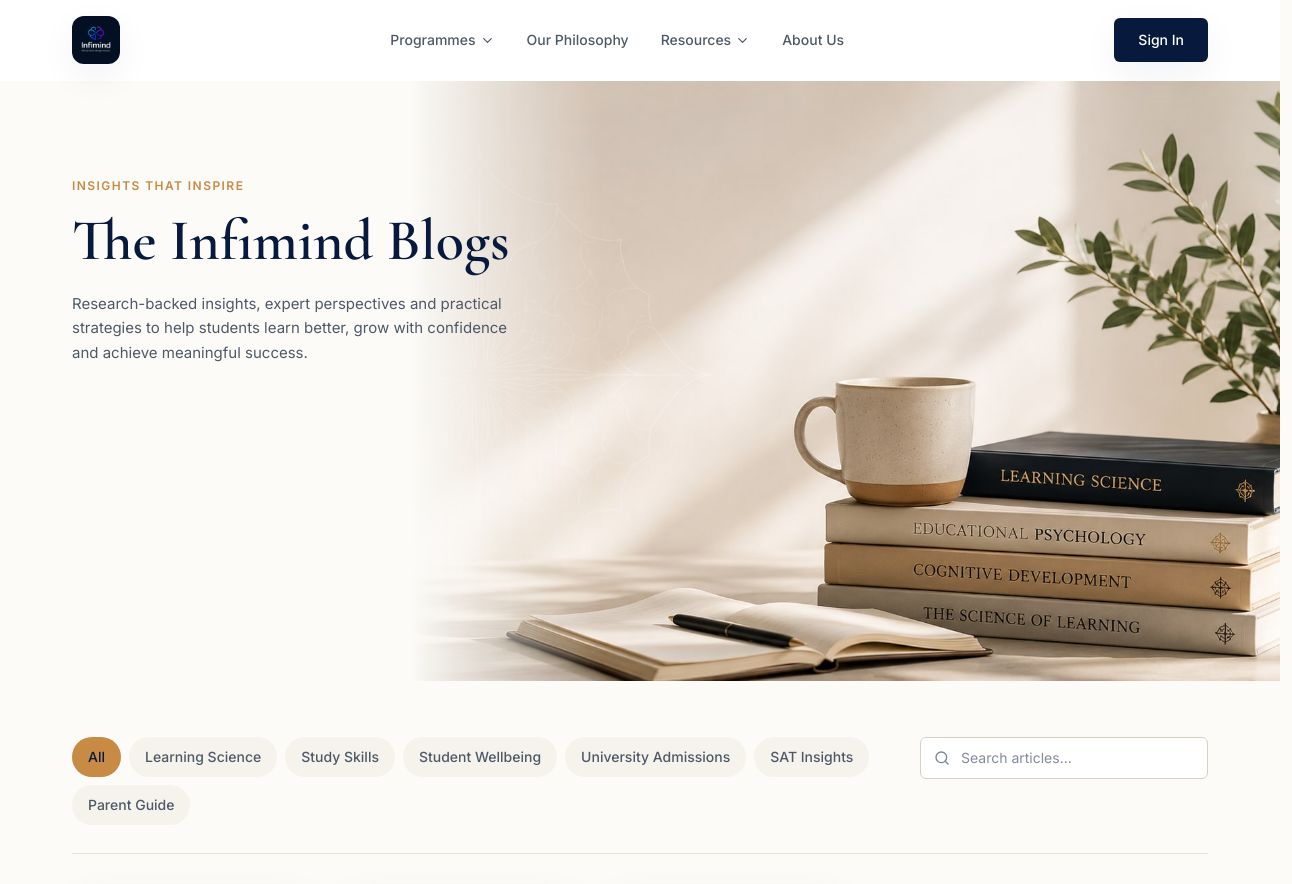
Test: Blog listing page › filters by category and reflects it in the URL, showing a no-results state for an empty match
Click the button "SAT Insights" at (812,757), box top-left (754, 737), bottom-right (869, 777)
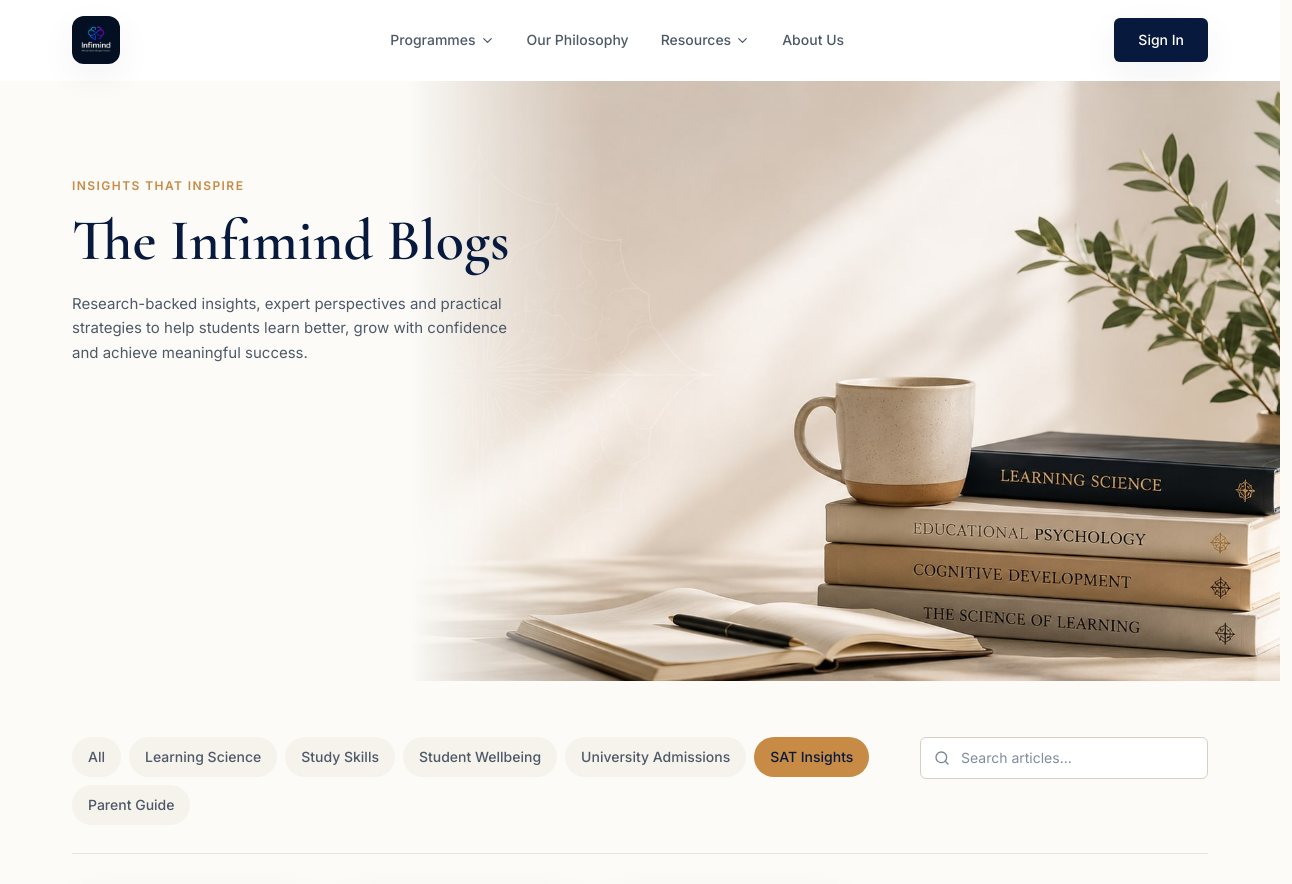
Parent Guide has no seeded or fixture articles, so it's a reliable empty match.
Click the button "Parent Guide" at (131,805), box top-left (72, 785), bottom-right (190, 825)
(page scrolled)
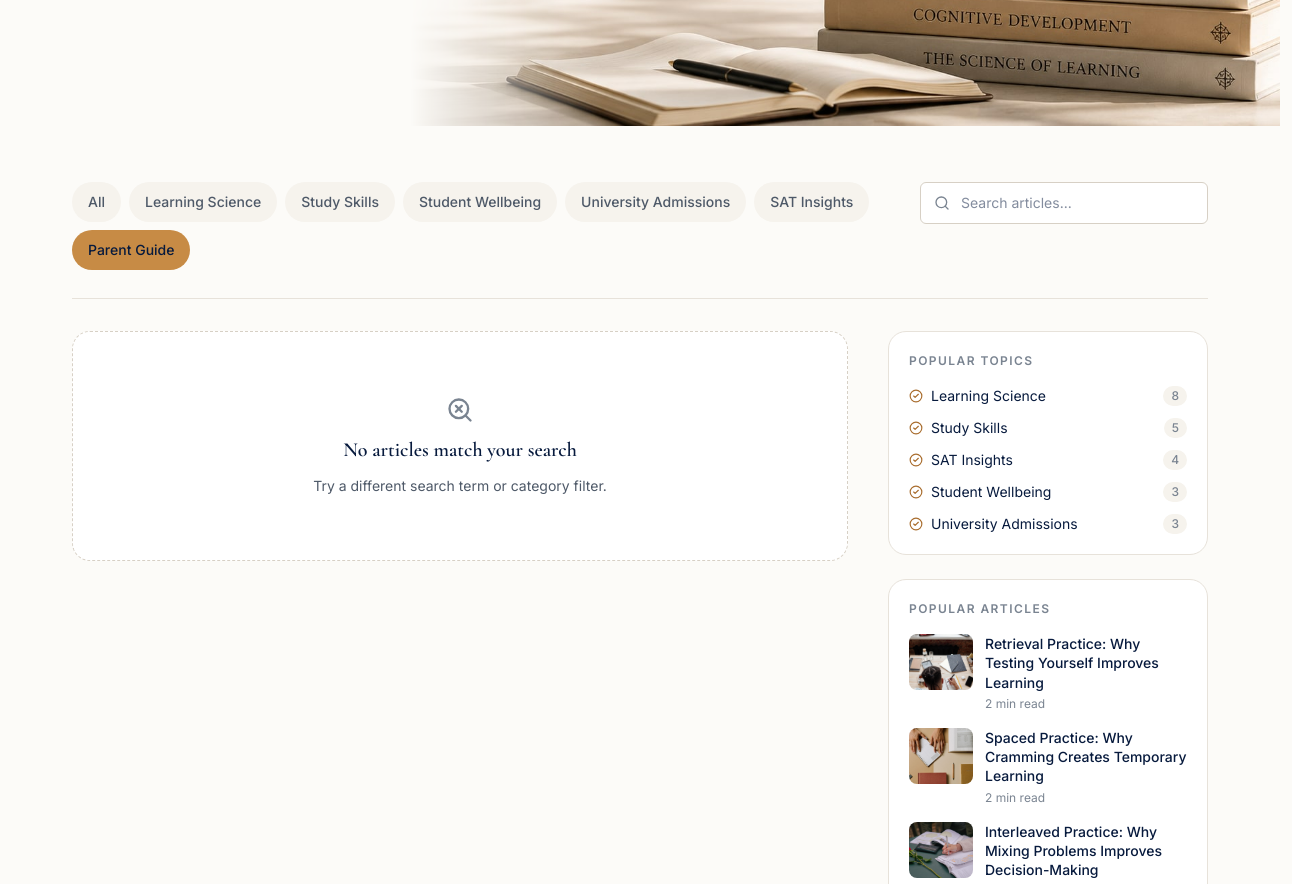
Expected: the heading "No articles match your search" is shown, top-left (343, 436), bottom-right (577, 464)
